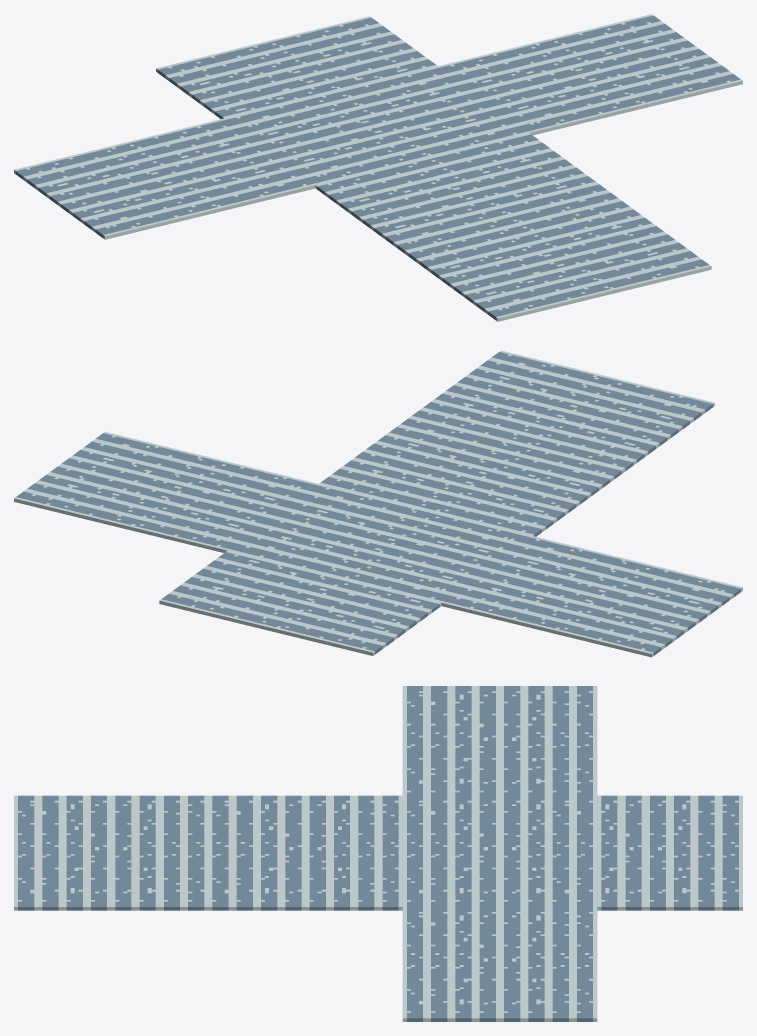
File: Wooden deck 2.fbx
The picture shows the model from 3 angles, top to bottom: view 1: azimuth 30°, elevation 25°; view 2: azimuth 150°, elevation 25°; view 3: azimuth 270°, elevation 25°; orthographic projection. The views are drawn at different scales.
Parts seen in each view (by area): view 1: Wooden Deck 2; view 2: Wooden Deck 2; view 3: Wooden Deck 2.
Boxes of the visible parts, box(x1,y1,x2,y2) form: Wooden Deck 2: box(14, 14, 742, 321); Wooden Deck 2: box(14, 350, 742, 657); Wooden Deck 2: box(14, 686, 742, 1021).
Bounding box in the file's own units: 1940 × 10 × 1800.
